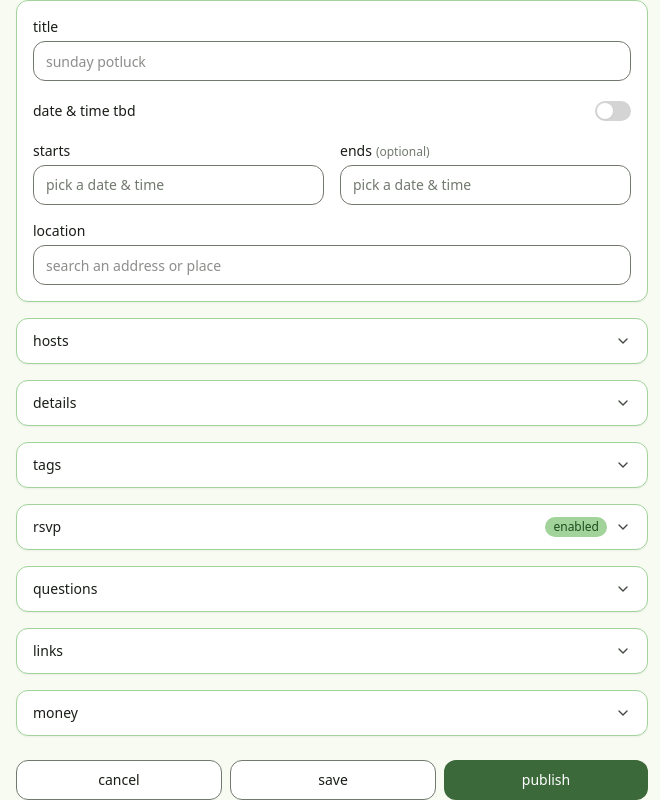
Test case: EventForm hosts section › shows the staged member picker when creating
Click the button "hosts": (51, 340) [17,319,647,363]
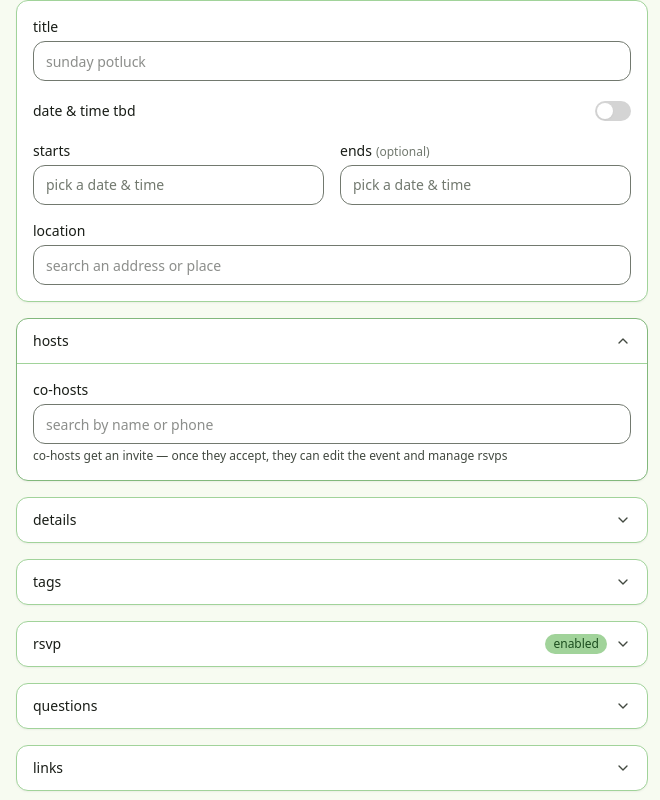
Check: the field labelled "co-hosts" is shown, box [33,404,631,444]
